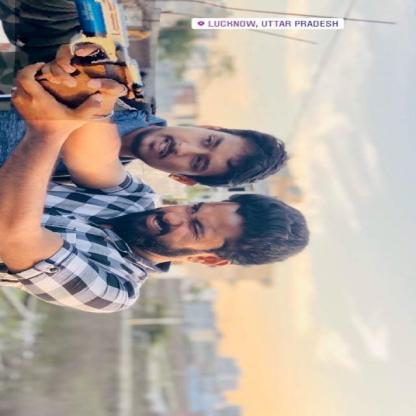handgun: (12, 0, 158, 124)
